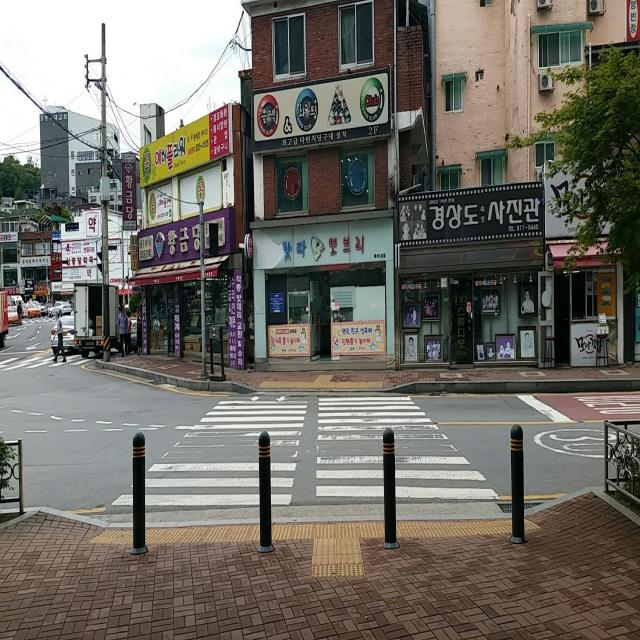횡단보도: (110, 393, 500, 506), (0, 354, 101, 374)
